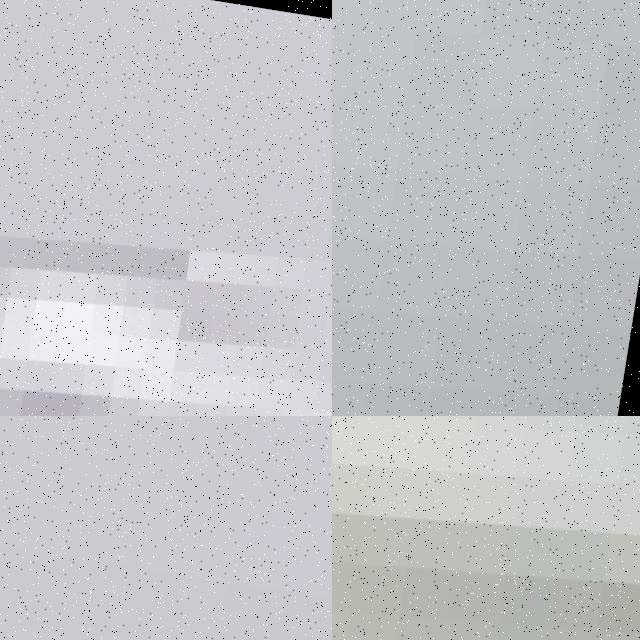0: (0, 0, 332, 416)
drone: (332, 0, 640, 416), (332, 416, 640, 640)
